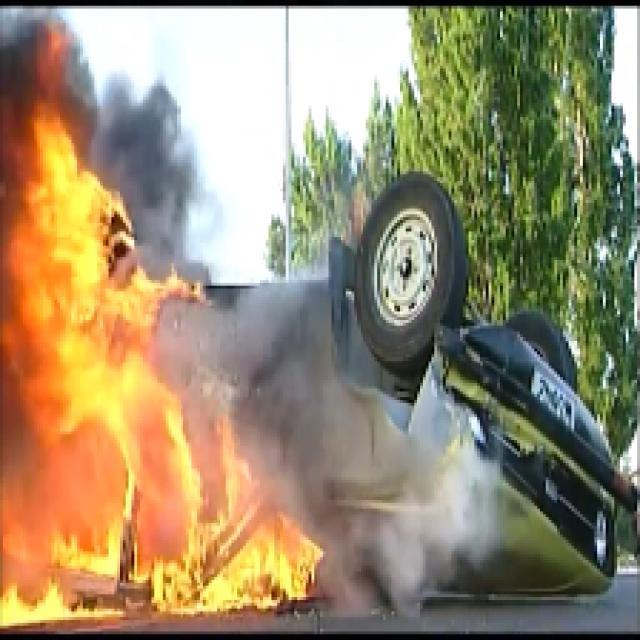Fire: (6, 103, 320, 632)
Smoke: (232, 303, 398, 488)
